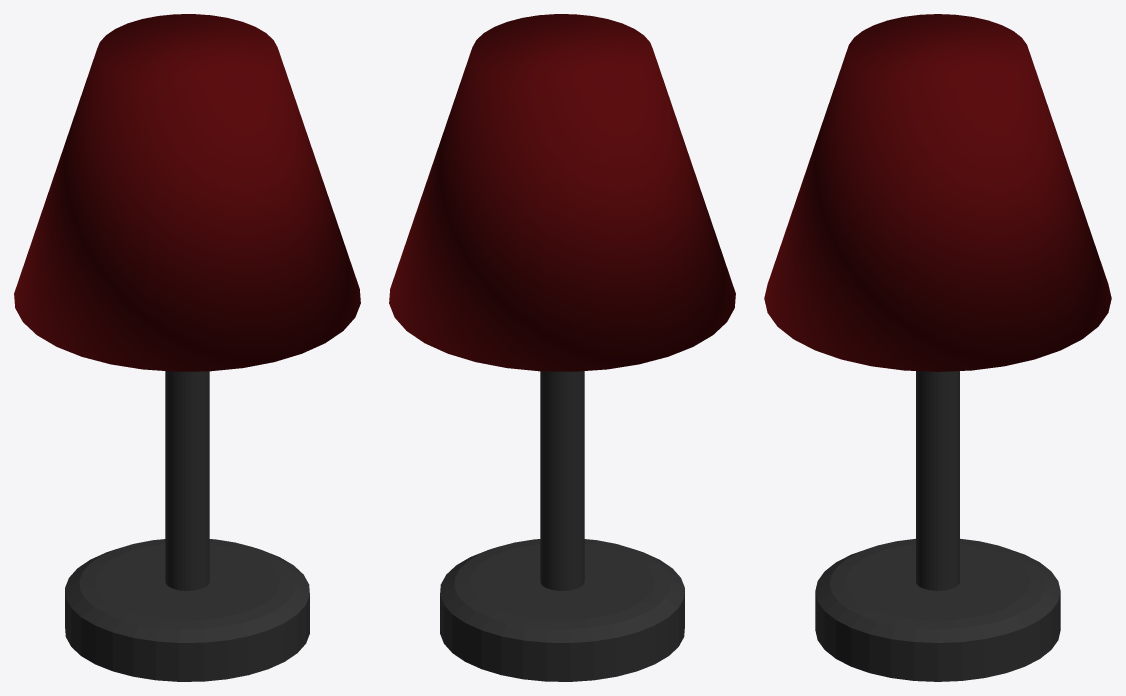
The model's file is Nachtischlampe blend.fbx.
3 views of the same model, side by side, from view 1: azimuth 30°, elevation 25°; view 2: azimuth 150°, elevation 25°; view 3: azimuth 270°, elevation 25° (orthographic).
Parts seen in each view (by area): view 1: Cylinder.002, Cylinder; view 2: Cylinder.002, Cylinder; view 3: Cylinder.002, Cylinder.
Part boxes in pixels (x1=…): Cylinder.002: x1=14, y1=14, x2=360, y2=371; Cylinder: x1=65, y1=371, x2=309, y2=681; Cylinder.002: x1=389, y1=14, x2=735, y2=371; Cylinder: x1=440, y1=371, x2=684, y2=681; Cylinder.002: x1=764, y1=14, x2=1111, y2=371; Cylinder: x1=815, y1=371, x2=1060, y2=681.
Bounding box in the file's own units: 64.38 × 119 × 64.38.
